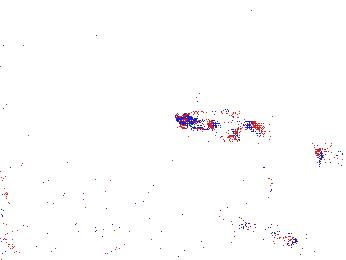X-ray fish: (203, 165, 292, 207)
red belly glassfish: (238, 216, 298, 248)
redtail glassfish: (174, 108, 271, 144), (308, 141, 346, 170)
